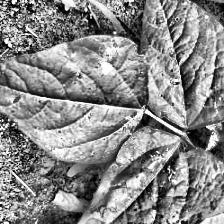ALS: (0, 18, 209, 115), (81, 84, 224, 195)
